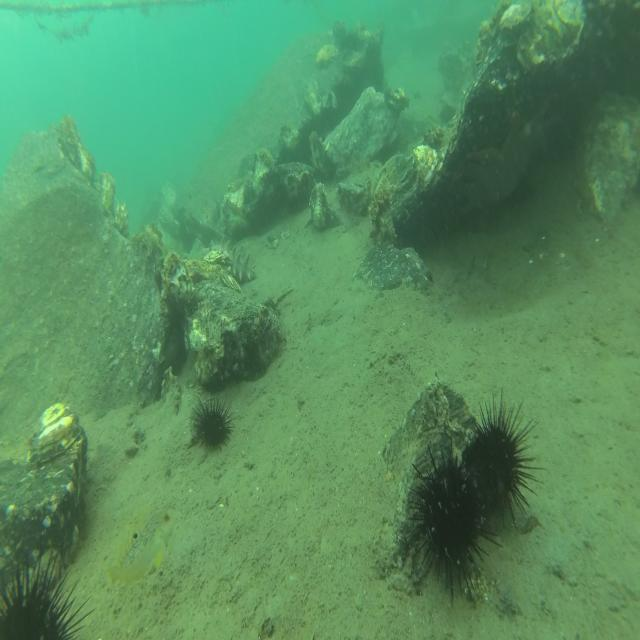echinus: (404, 438, 505, 611), (468, 383, 547, 532), (0, 540, 96, 640), (188, 391, 236, 453), (342, 25, 360, 51), (375, 57, 386, 87), (413, 90, 421, 100)
holothurian: (201, 234, 257, 283)
starfish: (460, 97, 557, 215)
